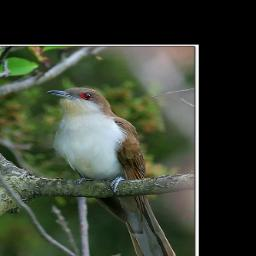Cuckoo: (45, 86, 187, 256)
